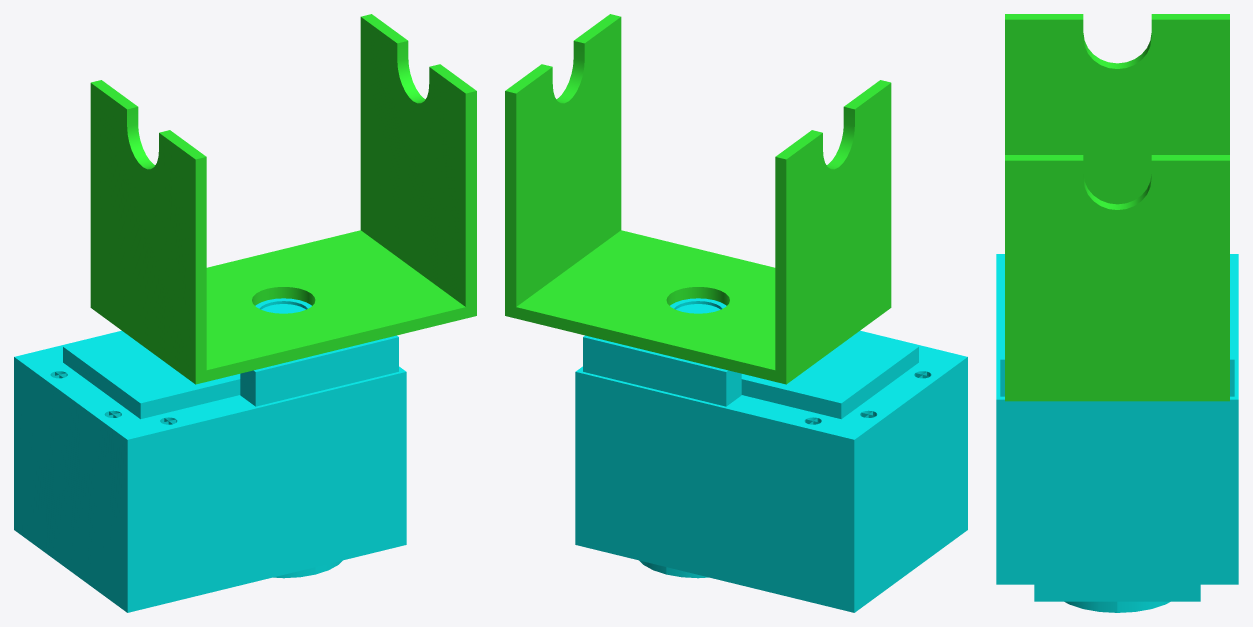
3 views of the same model, side by side, from view 1: azimuth 30°, elevation 25°; view 2: azimuth 150°, elevation 25°; view 3: azimuth 270°, elevation 25° (orthographic). The views are drawn at different scales.
Parts seen in each view (by area): view 1: MX-28T, FR05-H101 (×2), FR07-B101, group_1; view 2: MX-28T, FR05-H101 (×2), FR07-B101, group_1; view 3: FR05-H101, MX-28T, FR07-B101, group_1.
Boxes of the visible parts, <box> form: MX-28T: <box>14,330,406,612</box>; FR05-H101 (×2): <box>90,14,476,384</box>; FR07-B101: <box>240,298,398,406</box>; group_1: <box>261,304,342,578</box>; MX-28T: <box>575,330,967,612</box>; FR05-H101 (×2): <box>505,14,891,384</box>; FR07-B101: <box>583,298,741,406</box>; group_1: <box>639,304,720,578</box>; FR05-H101: <box>1005,14,1229,401</box>; MX-28T: <box>996,254,1238,601</box>; FR07-B101: <box>1000,285,1234,396</box>; group_1: <box>1064,601,1170,612</box>.
Size of the model in its own units: 2.52 by 1.4 by 3.17.
